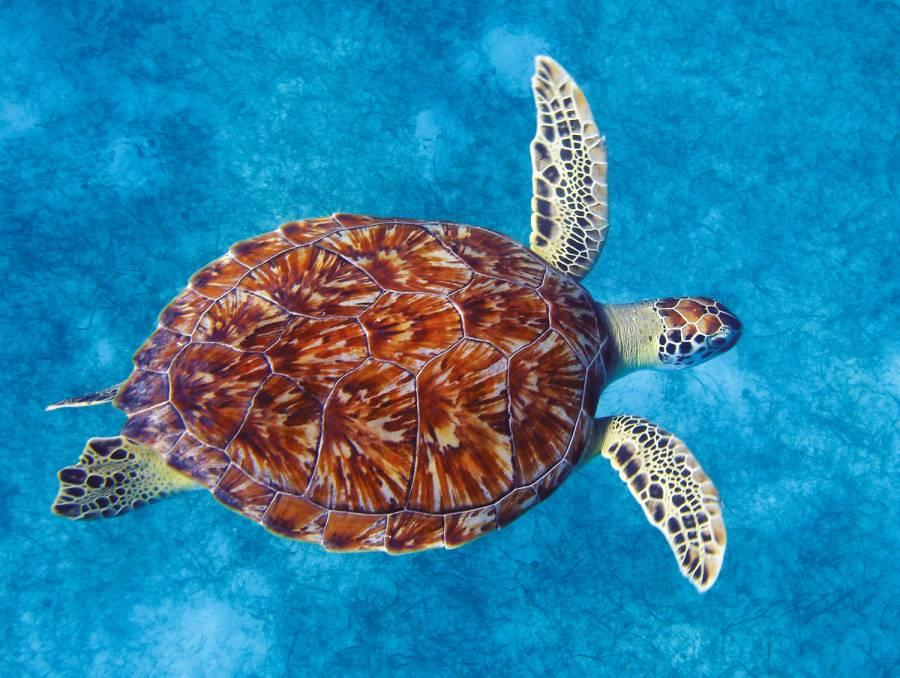turtle: (644, 288, 752, 376)
